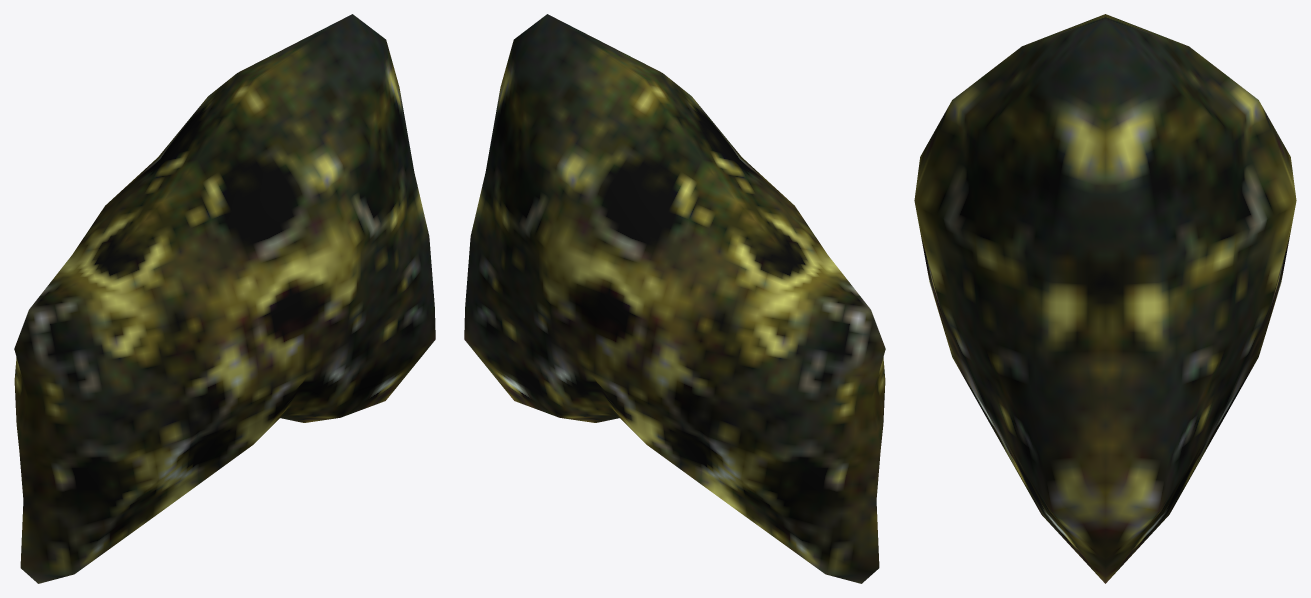
Rendered from aerolite05.FBX.
The picture shows the model from 3 angles, left to right: view 1: azimuth 30°, elevation 25°; view 2: azimuth 150°, elevation 25°; view 3: azimuth 270°, elevation 25°; orthographic projection. The views are drawn at different scales.
Visible parts, largest first — view 1: aerolite05; view 2: aerolite05; view 3: aerolite05.
Boxes of the visible parts, <box> form: aerolite05: <box>14,14,435,583</box>; aerolite05: <box>464,14,885,583</box>; aerolite05: <box>914,14,1296,583</box>.
Bounding box in the file's own units: 1165 × 1337 × 684.
